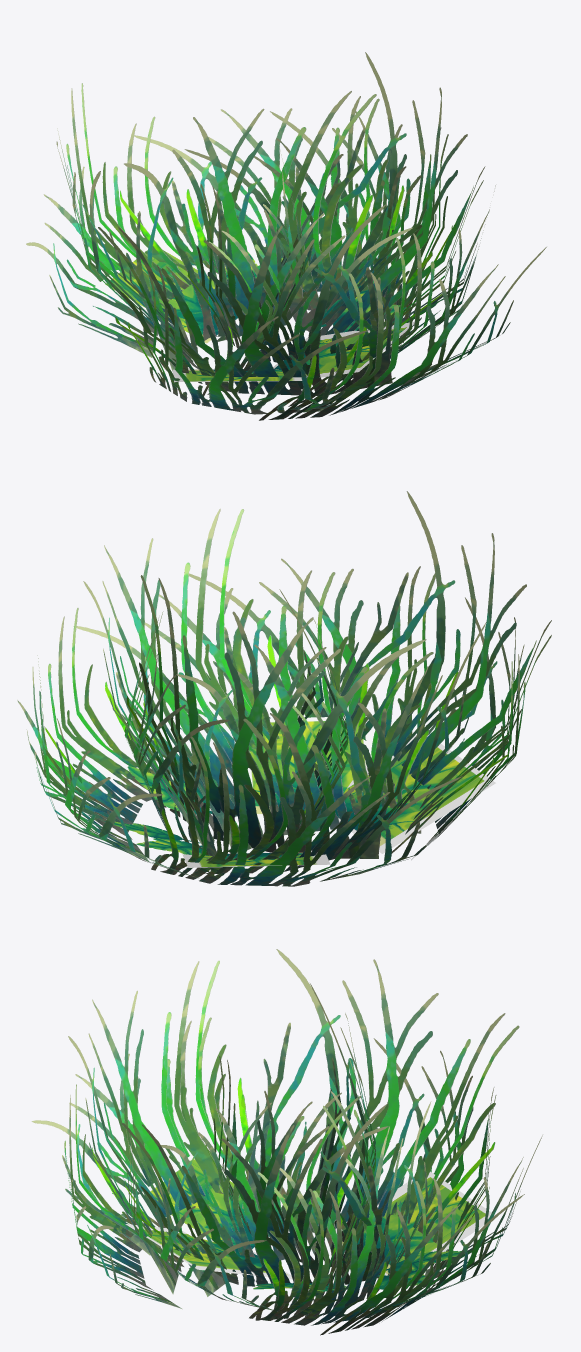
Rendered from SM_GrassClump.fbx.
3 renders of one model, top to bottom at view 1: azimuth 30°, elevation 25°; view 2: azimuth 150°, elevation 25°; view 3: azimuth 270°, elevation 25°, orthographic. The views are drawn at different scales.
Visible parts, largest first — view 1: GrassClumpMesh; view 2: GrassClumpMesh; view 3: GrassClumpMesh.
Boxes of the visible parts, x1,y1,x2,y2 form: GrassClumpMesh: (26, 52, 546, 420); GrassClumpMesh: (17, 491, 551, 886); GrassClumpMesh: (31, 949, 542, 1335).
Size of the model in its own units: 386 by 205 by 392.
